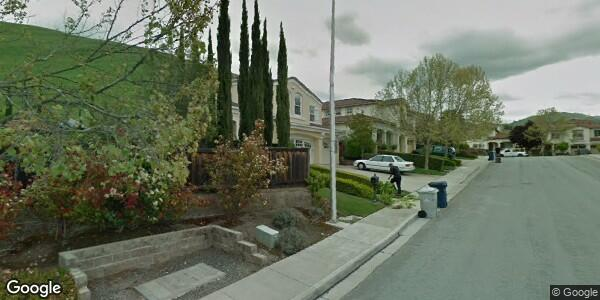Steel_Pole: (328, 1, 349, 229)
